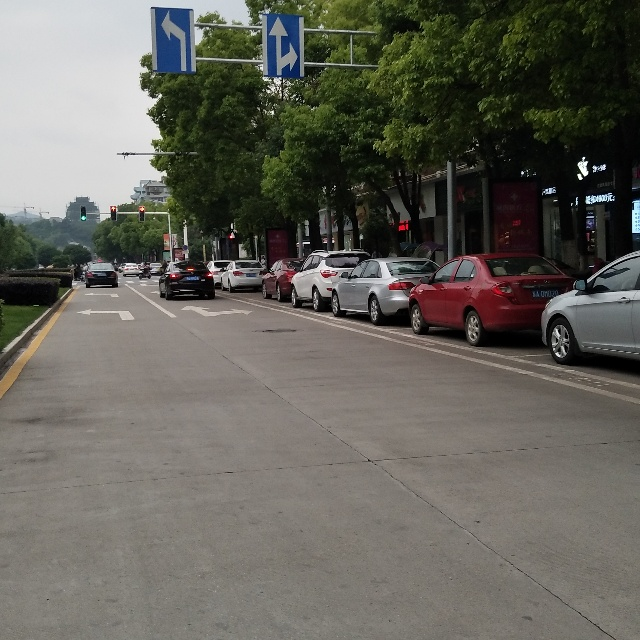left: (150, 8, 191, 71)
